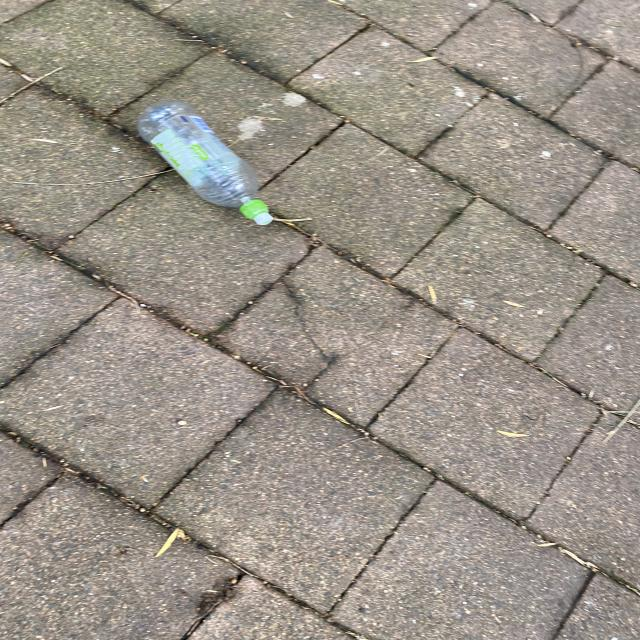bottle: (138, 100, 274, 226)
